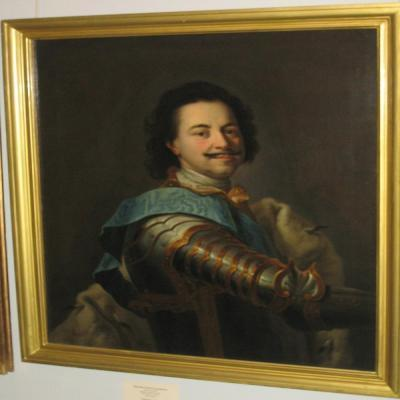painting: (1, 2, 400, 399)
